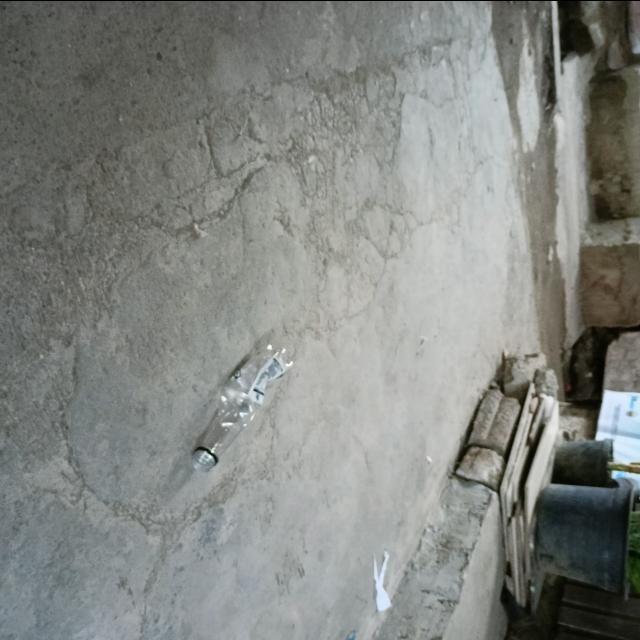Bottle: (193, 343, 292, 471)
